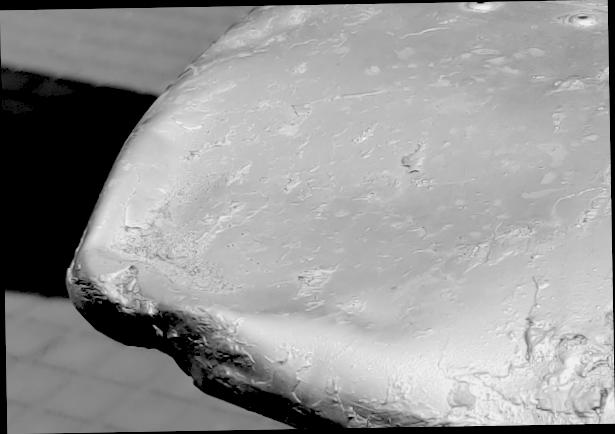dent: (1, 0, 615, 434)
